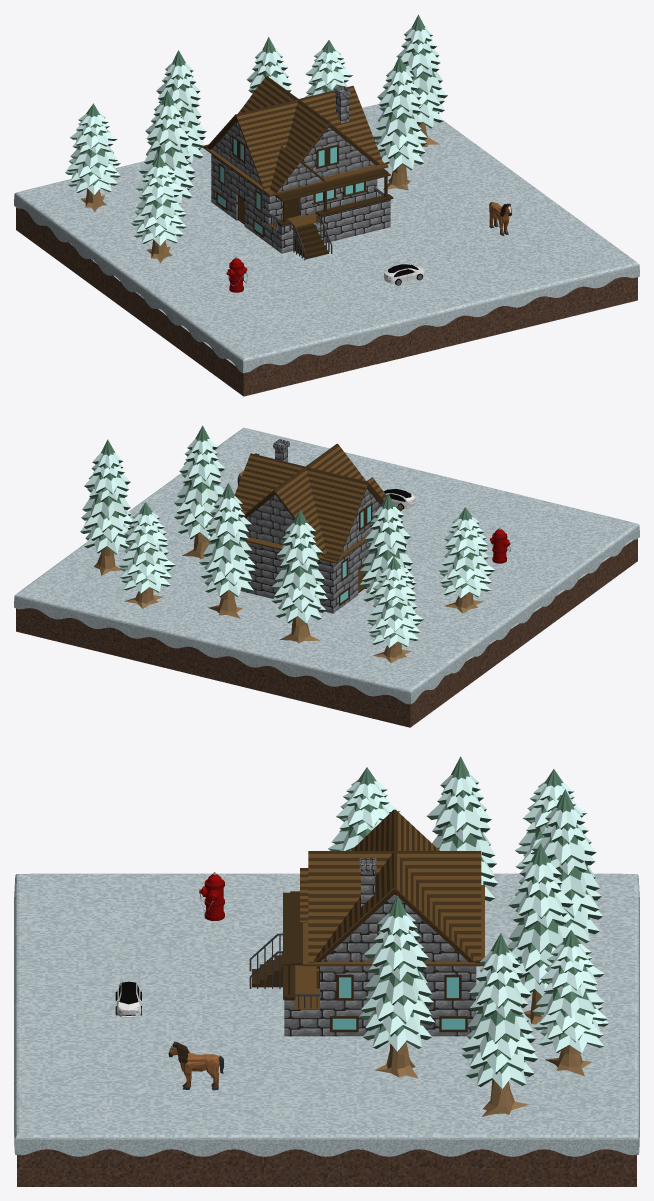
3 views of the same model, one above another, from view 1: azimuth 30°, elevation 25°; view 2: azimuth 150°, elevation 25°; view 3: azimuth 270°, elevation 25° (orthographic). The views are drawn at different scales.
Parts seen in each view (by area): view 1: Cube.003, Cube.586, VEHICLES_TESLA, ANIMAL_CABALLO, OBJRANDOM_FIRE_HYDRANT; view 2: Cube.003, Cube.586, OBJRANDOM_FIRE_HYDRANT, VEHICLES_TESLA; view 3: Cube.003, Cube.586, ANIMAL_CABALLO, OBJRANDOM_FIRE_HYDRANT, VEHICLES_TESLA.
Part boxes in pixels (x1=…): Cube.003: x1=14, y1=14, x2=639, y2=396; Cube.586: x1=202, y1=76, x2=393, y2=260; VEHICLES_TESLA: x1=384, y1=264, x2=424, y2=285; ANIMAL_CABALLO: x1=489, y1=202, x2=511, y2=235; OBJRANDOM_FIRE_HYDRANT: x1=226, y1=256, x2=247, y2=292; Cube.003: x1=14, y1=425, x2=639, y2=727; Cube.586: x1=234, y1=439, x2=405, y2=613; OBJRANDOM_FIRE_HYDRANT: x1=490, y1=527, x2=510, y2=563; VEHICLES_TESLA: x1=383, y1=489, x2=415, y2=508; Cube.003: x1=14, y1=756, x2=639, y2=1186; Cube.586: x1=249, y1=809, x2=484, y2=1036; ANIMAL_CABALLO: x1=168, y1=1041, x2=223, y2=1090; OBJRANDOM_FIRE_HYDRANT: x1=199, y1=872, x2=224, y2=920; VEHICLES_TESLA: x1=115, y1=981, x2=141, y2=1017.
Size of the model in its own units: 4040 by 1692 by 4040.
Materials: 33 (4 with a texture image).
